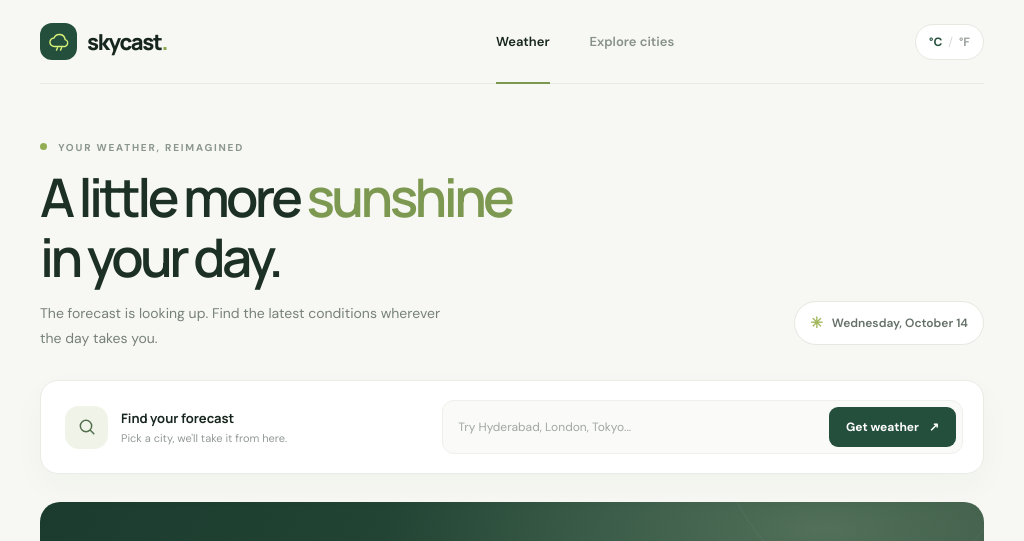
Scenario: shows an error when the city is not found
This screenshot has width=1024, height=541.
Type "Not a real city" into the field named "city name" at (634, 427), box [449, 410, 819, 444]
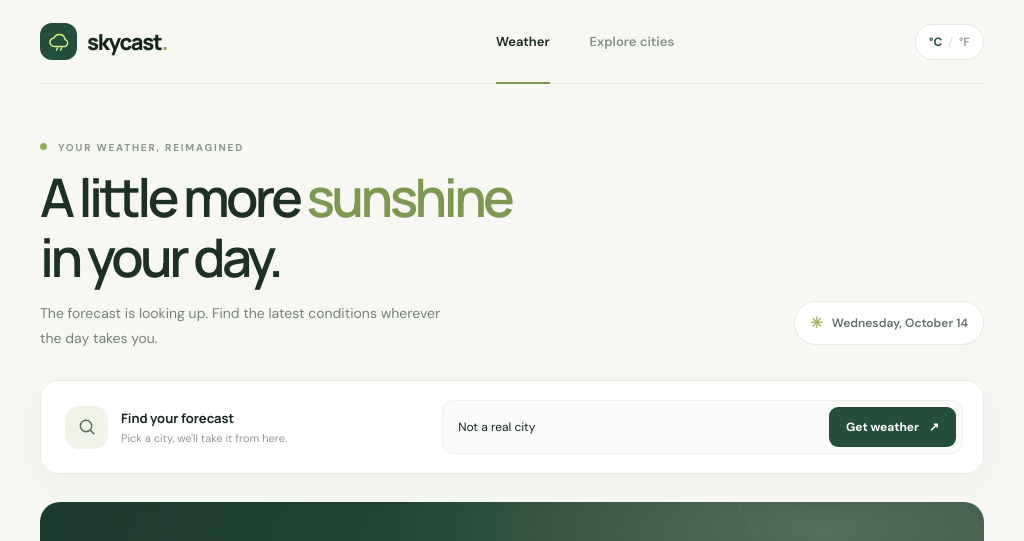
Click the button "Get weather ↗" at (892, 427), box [829, 407, 956, 447]
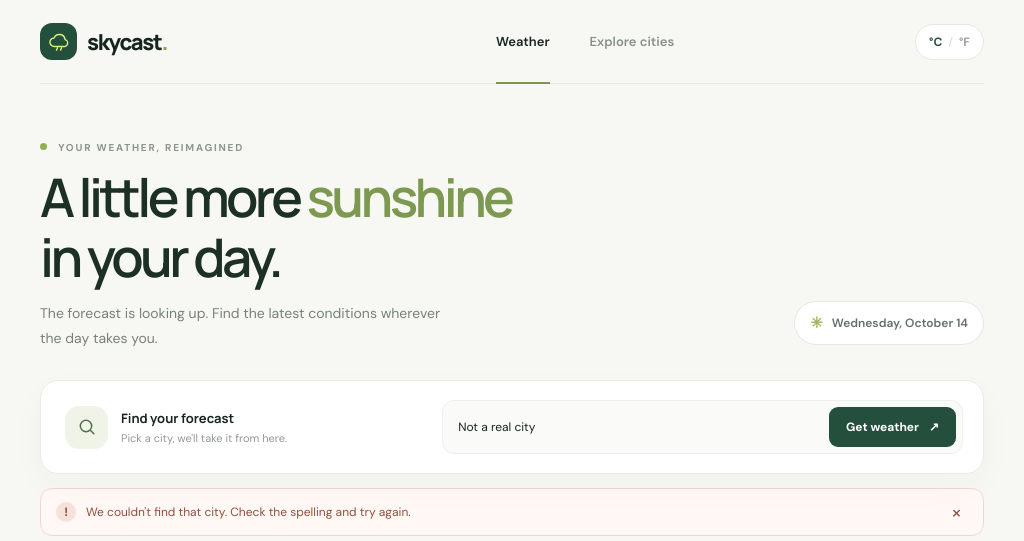
Now the message shows "couldn't find that city", box [86, 504, 411, 520]
